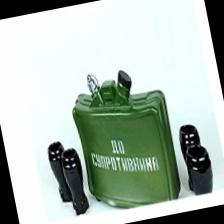MOH-50: (66, 62, 186, 216)
